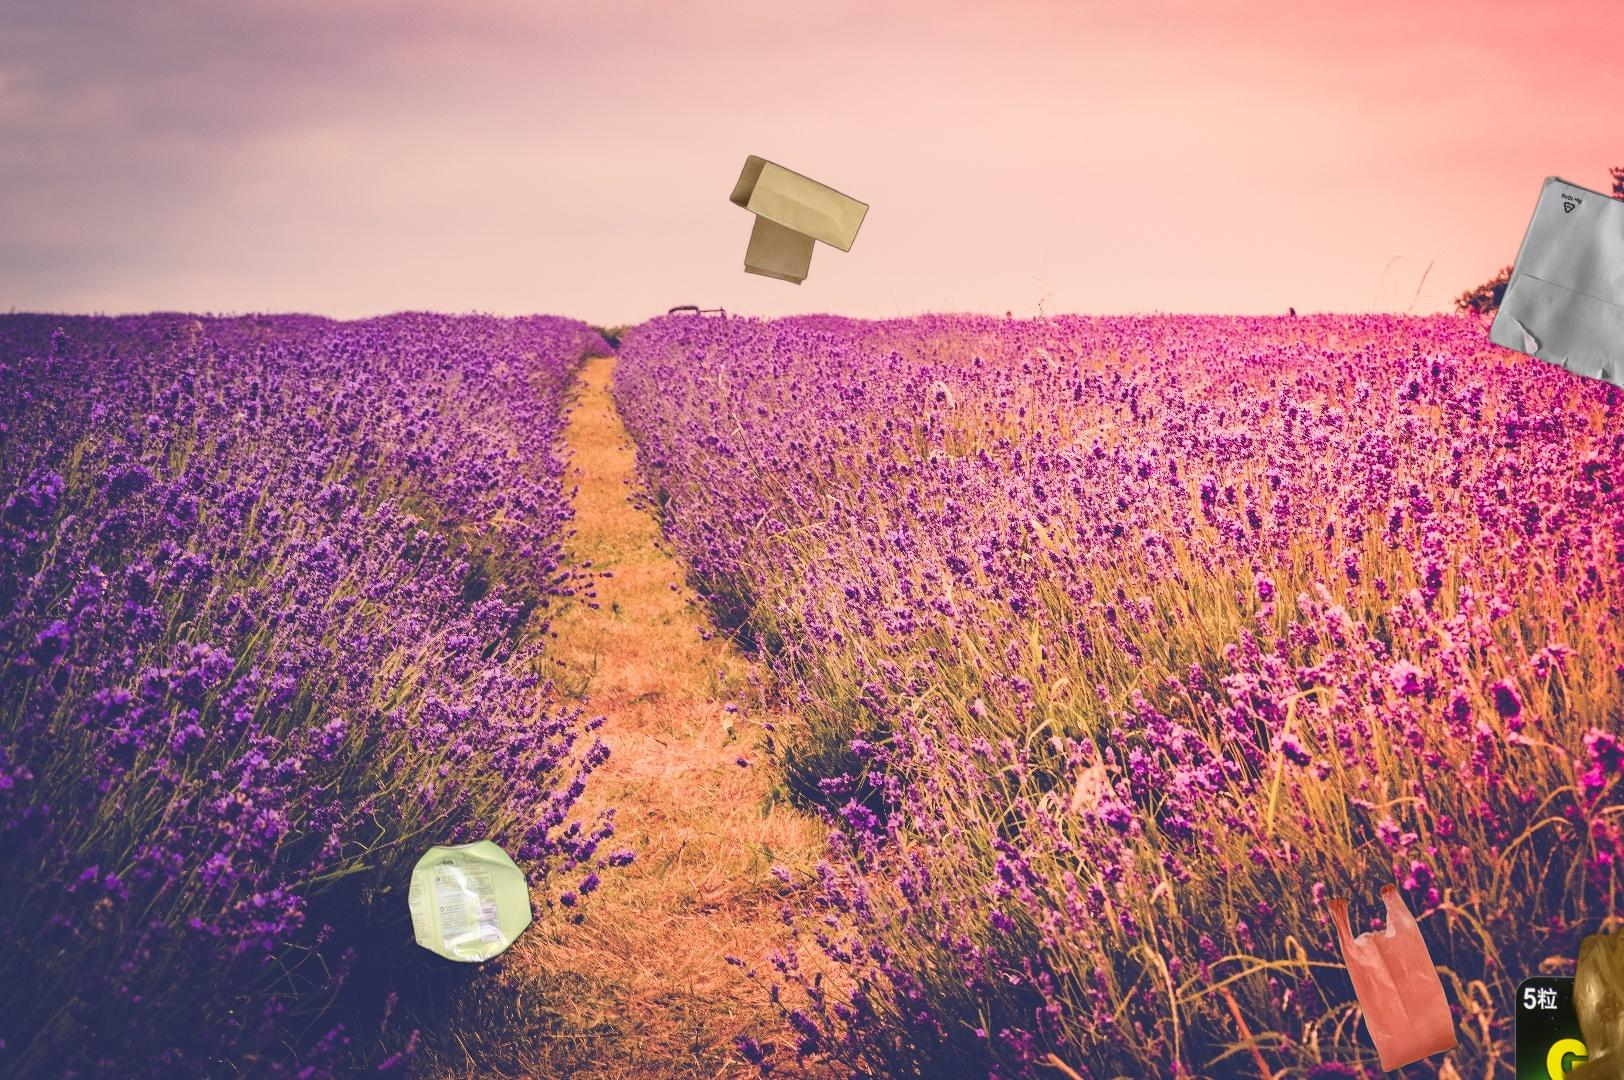battery: (1508, 970, 1624, 1080)
metal-cans: (404, 832, 536, 969)
paper: (1484, 174, 1624, 520)
paper-bag: (728, 154, 872, 288)
plastic-bag: (1323, 880, 1463, 1076)
plastic-bottles: (1410, 897, 1624, 1080)
